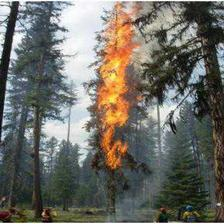fire: (91, 13, 149, 189)
